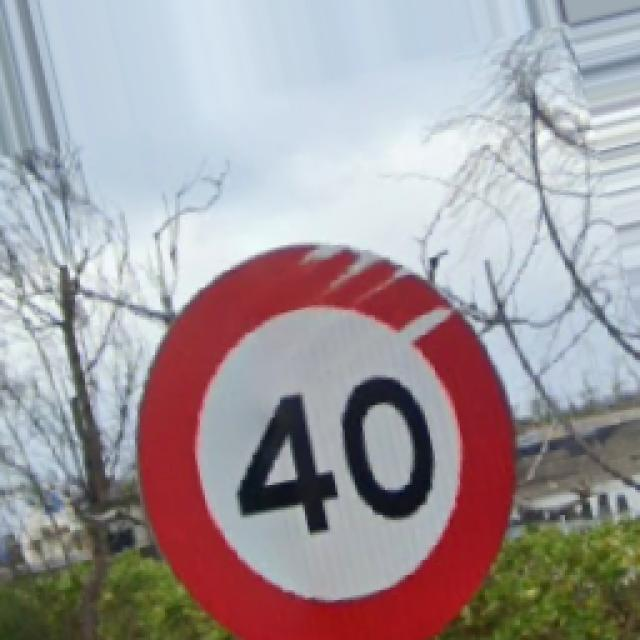Speed Limit -40-: (140, 245, 512, 638)
